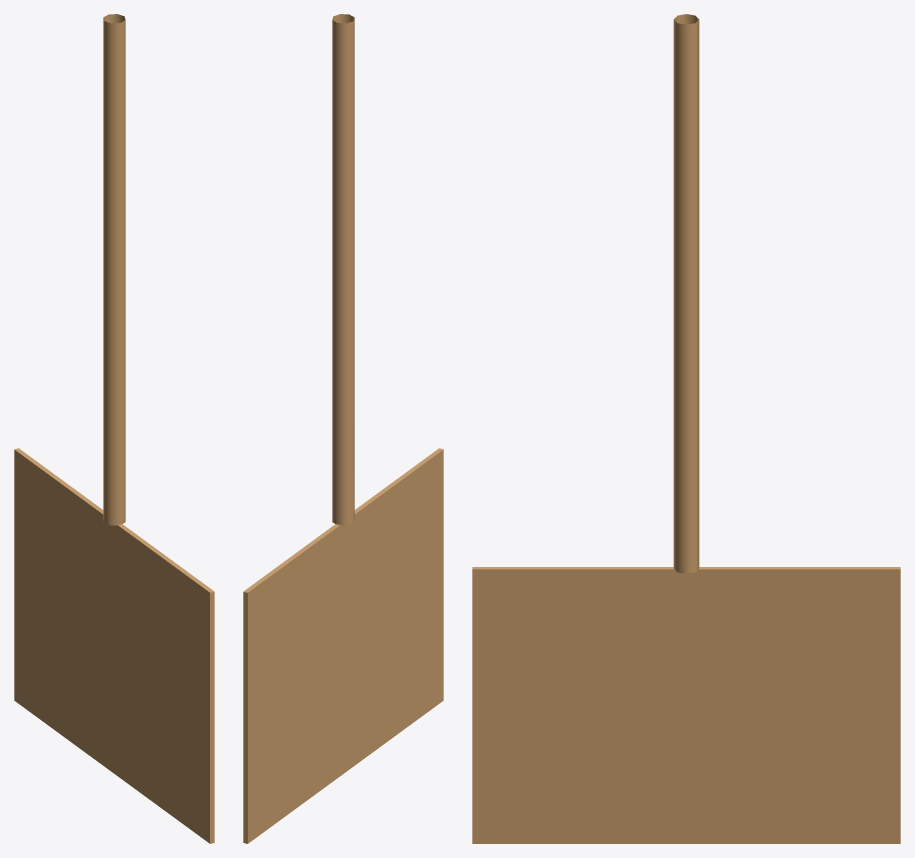
Rendered from ball_machine_mixer.fbx.
The picture shows the model from 3 angles, left to right: view 1: azimuth 30°, elevation 25°; view 2: azimuth 150°, elevation 25°; view 3: azimuth 270°, elevation 25°; orthographic projection. The views are drawn at different scales.
Visible parts, largest first — view 1: ball_machine_mixer; view 2: ball_machine_mixer; view 3: ball_machine_mixer.
Part boxes in pixels (left/top/right/bottom): ball_machine_mixer: left=14, top=14, right=214, bottom=843; ball_machine_mixer: left=243, top=14, right=443, bottom=843; ball_machine_mixer: left=472, top=14, right=900, bottom=843.
Bounding box in the file's own units: 0.9656 × 34.45 × 16.25.
